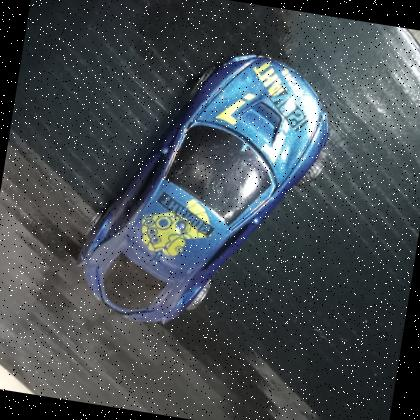Car: (78, 52, 331, 322)
